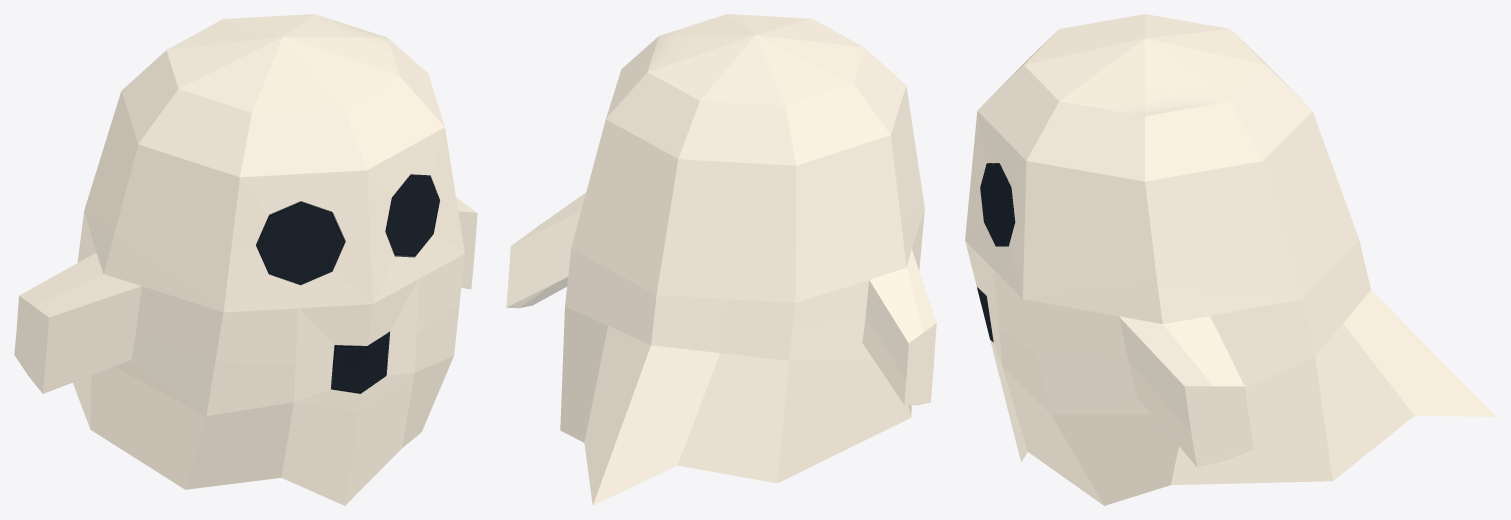
Rendered from ghost.glb.
3 renders of one model, left to right at view 1: azimuth 30°, elevation 25°; view 2: azimuth 150°, elevation 25°; view 3: azimuth 270°, elevation 25°, orthographic. The views are drawn at different scales.
Visible parts, largest first — view 1: ghost; view 2: ghost; view 3: ghost.
Part boxes in pixels (x1,y1,x2,y2): ghost: (14,14,477,505); ghost: (506,14,936,505); ghost: (965,14,1496,505).
Size of the model in its own units: 0.9358 by 0.8851 by 1.01.
Materials: 1 (1 with a texture image).
